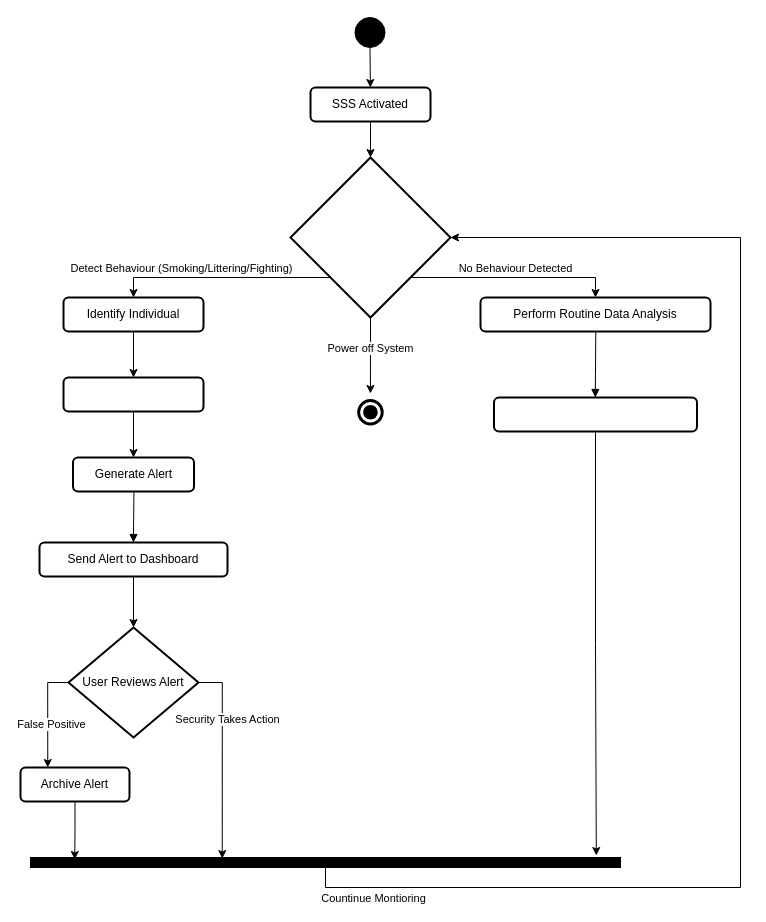
This 766x922 diagram has some shape labels left out. Here are the shapes that lost their labels. From the top down, the box of each, then its label:
(289, 156, 451, 318): Real-time Monitoring
(62, 376, 204, 412): Log Details of Incident
(492, 396, 698, 432): Update Dashboard Metrics
